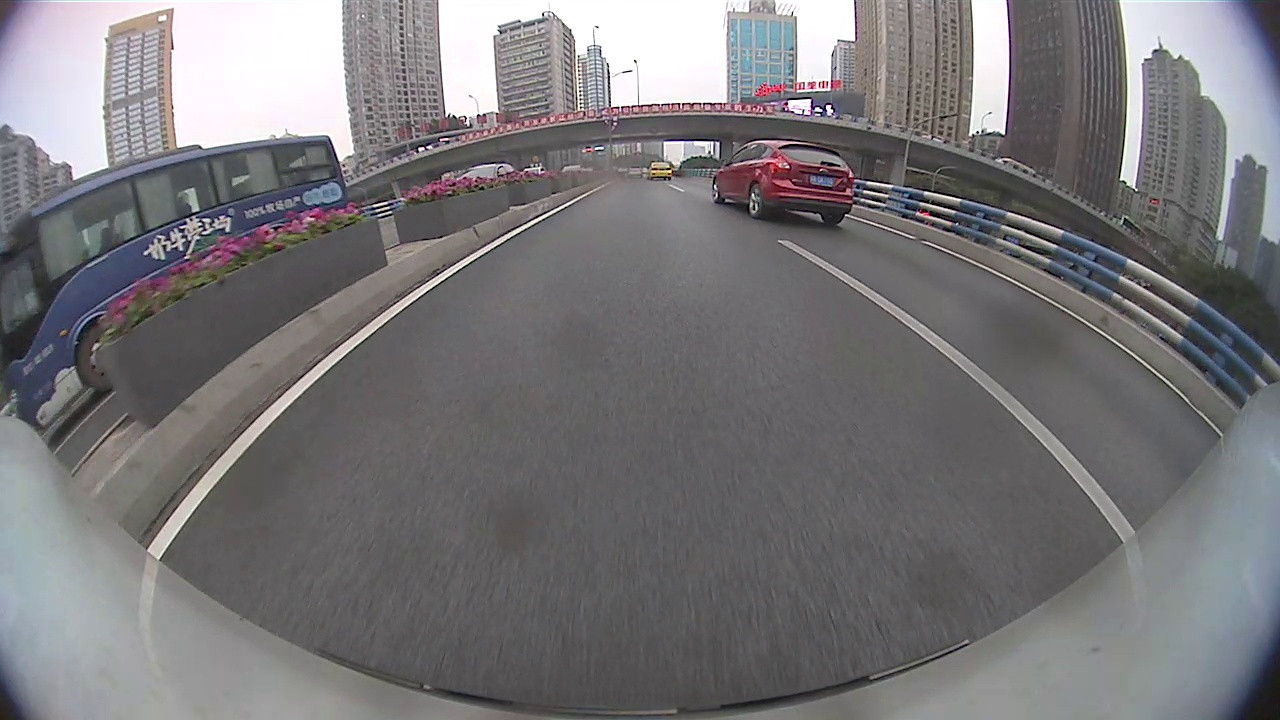bus: (1, 131, 354, 439)
car: (708, 131, 860, 229), (452, 159, 516, 186), (645, 158, 676, 184), (523, 159, 551, 177)
front: (74, 318, 114, 394), (710, 179, 723, 202)
rear: (748, 185, 763, 218)
